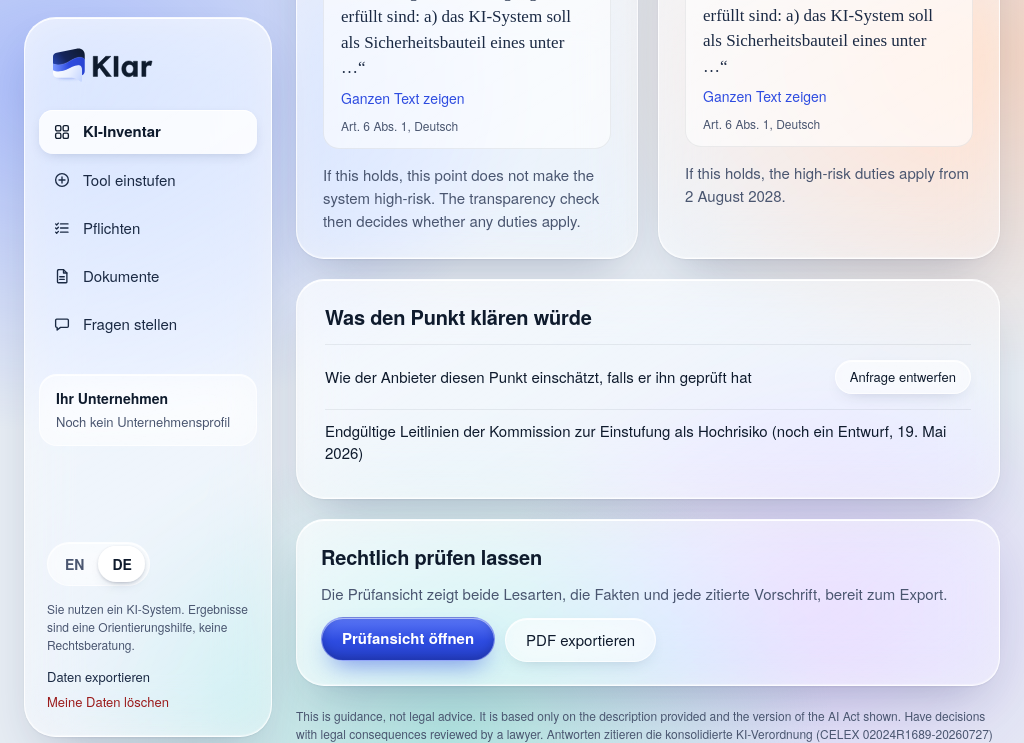
A legally ambiguous result (de) › opens P28’s request letter from Draft a request, naming the tool
(page scrolled)
Click the button "Anfrage entwerfen". click: click(903, 377)
box: [835, 360, 971, 394]
(page scrolled)
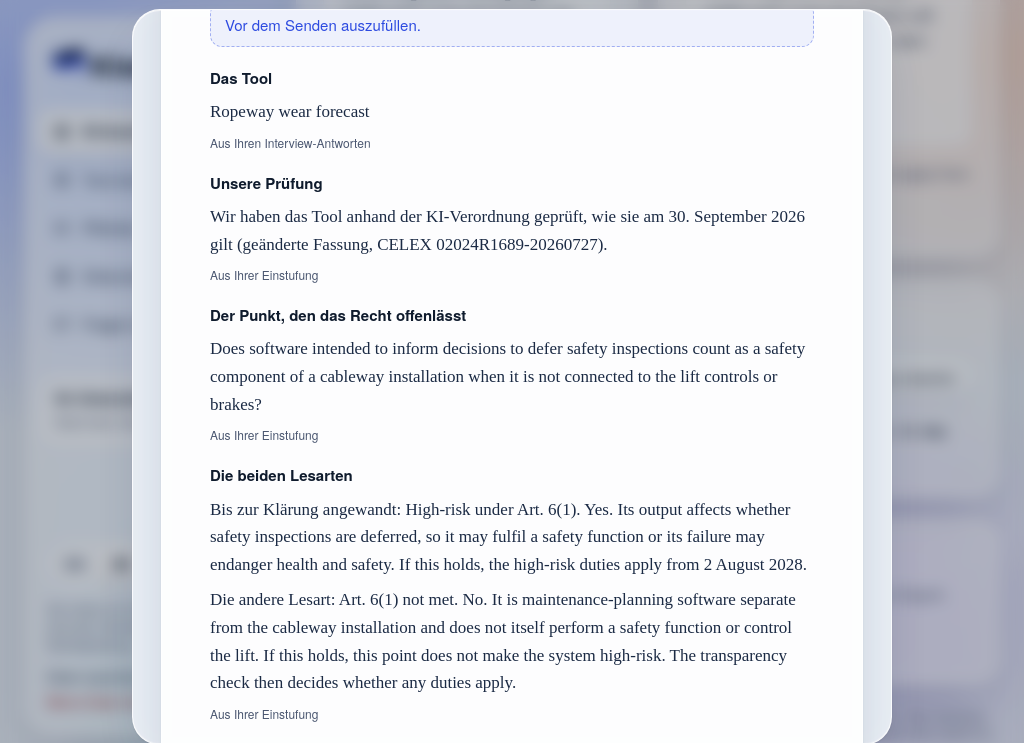
Expected: the text "Does software intended to inform decisions to defer safety inspections count as a safety component of a cableway install" is shown, [210, 340, 805, 414]
